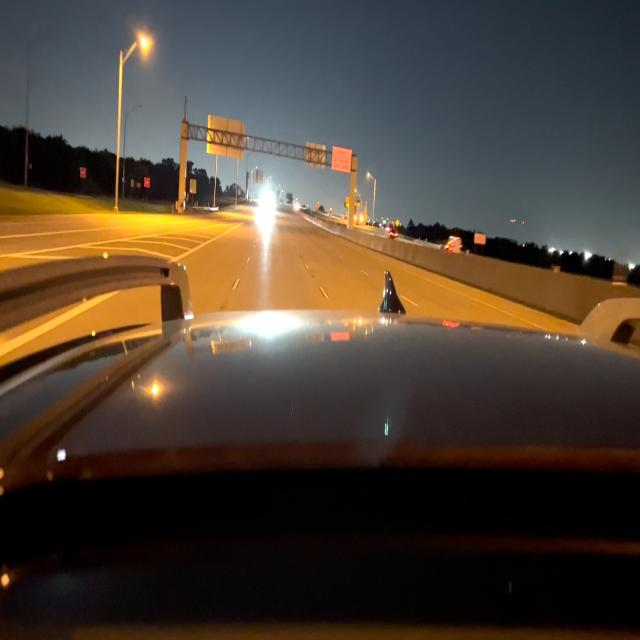back-of-sign: (208, 116, 245, 157), (305, 143, 325, 166)
